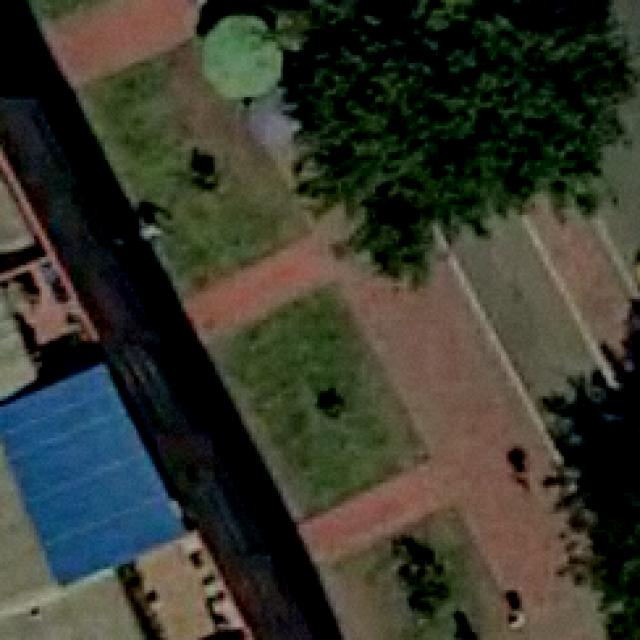vendedor_ambulante: (191, 11, 289, 102)
